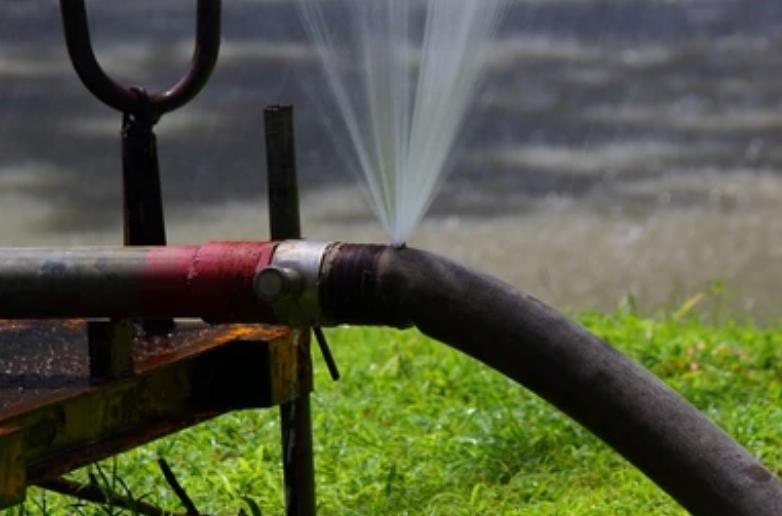pipe burst: (297, 0, 510, 257)
